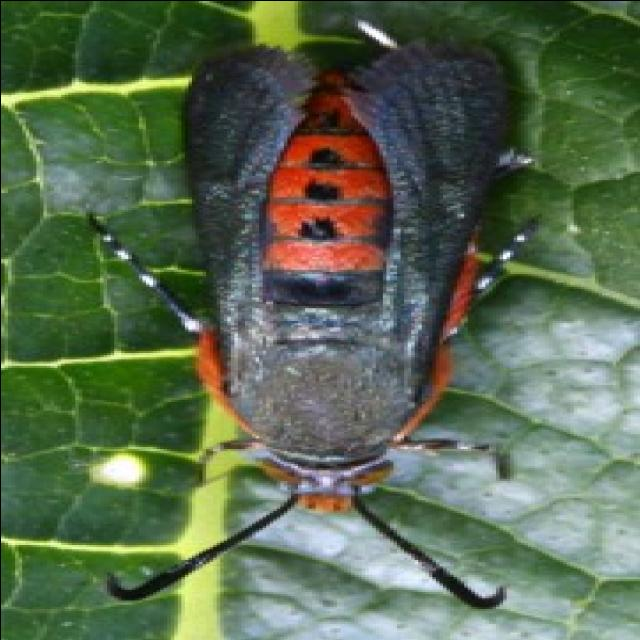squash_vine_borer: (80, 24, 586, 616)
